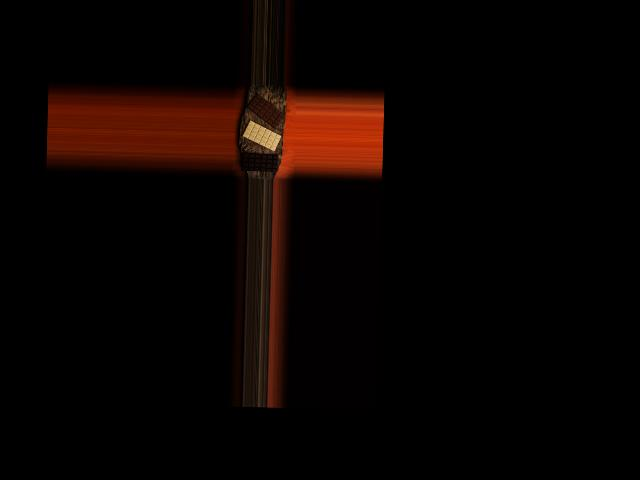chocolate: (240, 153, 278, 172)
